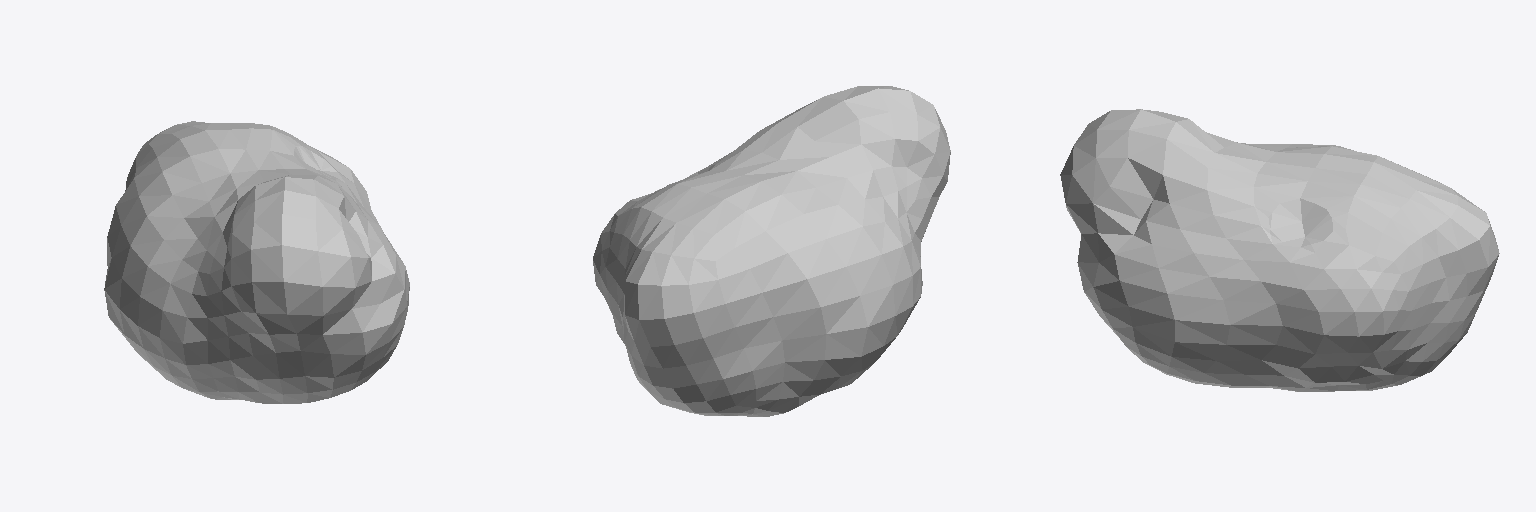
Rendered from asteroid.obj.
3 renders of one model, left to right at view 1: azimuth 30°, elevation 25°; view 2: azimuth 150°, elevation 25°; view 3: azimuth 270°, elevation 25°, orthographic.
Visible parts, largest first — view 1: Asteroid; view 2: Asteroid; view 3: Asteroid.
Part boxes in pixels (x1,y1,x2,y2): Asteroid: (104, 121, 409, 403); Asteroid: (593, 86, 950, 416); Asteroid: (1060, 109, 1499, 391).
Size of the model in its own units: 1.97 by 1.81 by 2.84.